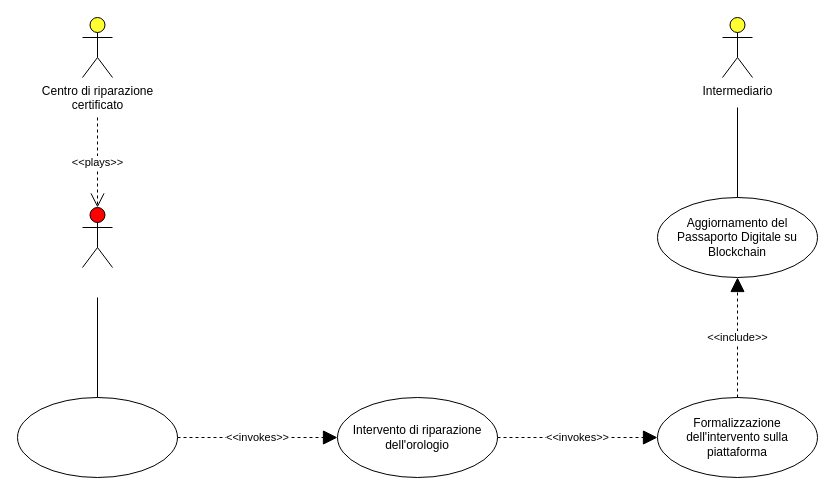
The diagram is 835 pixels wide and 495 high, and some of its shapes have lost their labels. The centre of each missing label's shape, as x and y in pixels:
"Manutentore" goes at (97,237).
"Verifica dell'autenticità dell'orologio" goes at (97,437).
